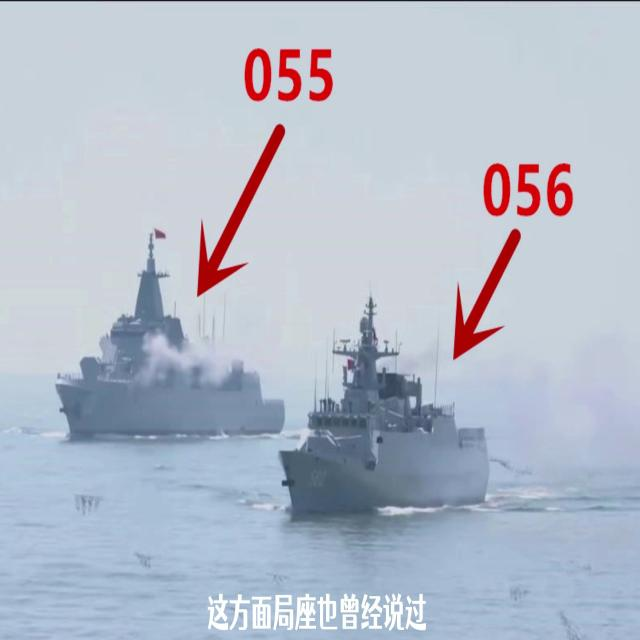navalvessels: (49, 220, 284, 430), (280, 294, 490, 510)
